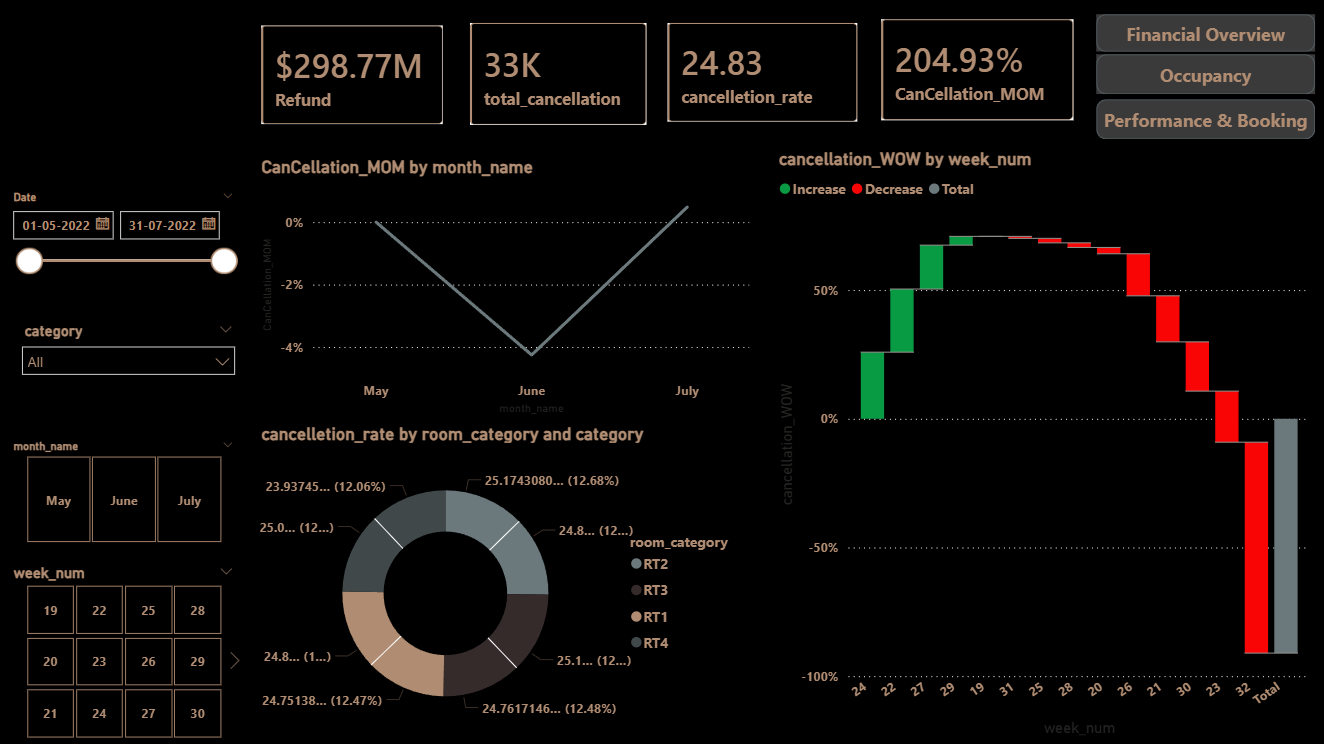

This screenshot's page, from the dashboard's own definition file:
{"tool":"powerbi","page":{"name":"Page 8","canvas":[1280,720],"ordinal":7},"visuals":[{"type":"cardVisual","fields":{"Data":["Z.CanCellation_MOM"]},"box":[846.2,16.2,195,107.5],"z":0},{"type":"cardVisual","fields":{"Data":["Z.total_cancellation"]},"box":[448.8,18.8,180,108.8],"z":1000},{"type":"waterfallChart","fields":{"Category":["Calender.week_num"],"Y":["Z.cancellation_WOW"]},"box":[746.2,145,522.5,572.5],"z":2000},{"type":"donutChart","fields":{"Category":["bookings.room_category"],"Y":["Z.cancelletion_rate"],"Series":["hotels.category"]},"box":[247.5,410,482.5,310],"z":3000},{"type":"cardVisual","fields":{"Data":["Z.cancelletion_rate"]},"box":[640,18.8,193.8,105],"z":4000},{"type":"slicer","fields":{"Values":["Calender.week_num"]},"box":[0,541.2,237.5,178.8],"z":5000},{"type":"slicer","fields":{"Values":["Calender.month_name"]},"box":[0,421.2,237.5,111.2],"z":6000},{"type":"cardVisual","fields":{"Data":["Z.Refund"]},"box":[247.5,21.2,185,105],"z":7000},{"type":"slicer","fields":{"Values":["hotels.category"]},"box":[11.2,307.5,226.2,100],"z":8000},{"type":"shape","box":[1057.5,16.2,211.2,36.2],"z":9000},{"type":"shape","box":[1057.5,97.5,211.2,38.8],"z":10000},{"type":"shape","box":[1057.5,53.8,211.2,38.8],"z":11000},{"type":"lineChart","fields":{"Category":["Calender.month_name"],"Y":["Z.CanCellation_MOM"]},"box":[247.5,153.8,481.2,253.8],"z":12000},{"type":"slicer","fields":{"Values":["Calender.Date"]},"box":[0,181.2,237.5,113.8],"z":13000}]}

Visuals, with their boxes in screenshot pixels (x1, y1, x2, y2), scaled from the page's 1280x720 canvas onto the 1324x744 screenshot:
cardVisual - Z.CanCellation_MOM: [875, 17, 1077, 128]
cardVisual - Z.total_cancellation: [464, 19, 650, 132]
waterfallChart - Calender.week_num x Z.cancellation_WOW: [772, 150, 1312, 741]
donutChart - bookings.room_category x Z.cancelletion_rate: [256, 424, 755, 743]
cardVisual - Z.cancelletion_rate: [662, 19, 862, 128]
slicer - Calender.week_num: [0, 559, 246, 743]
slicer - Calender.month_name: [0, 435, 246, 550]
cardVisual - Z.Refund: [256, 22, 447, 130]
slicer - hotels.category: [12, 318, 246, 421]
shape: [1094, 17, 1312, 54]
shape: [1094, 101, 1312, 141]
shape: [1094, 56, 1312, 96]
lineChart - Calender.month_name x Z.CanCellation_MOM: [256, 159, 754, 421]
slicer - Calender.Date: [0, 187, 246, 305]
